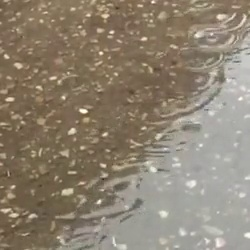drop: (180, 46, 223, 71), (192, 26, 235, 49), (56, 73, 83, 91), (177, 119, 203, 134), (191, 1, 213, 11)
